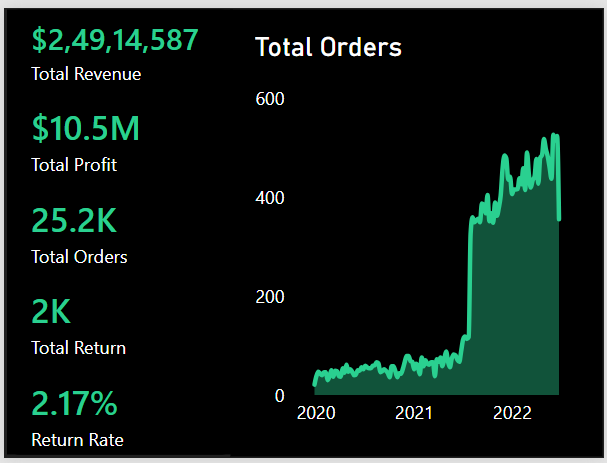

The dashboard page shown, as its layout file describes it:
{"tool":"powerbi","page":{"name":"tooltip","canvas":[400,300],"ordinal":4},"visuals":[{"type":"cardVisual","fields":{"Data":["Measure Table.Total Revenue","Measure Table.Total Profit","Measure Table.Total Orders","Measure Table.Total Return","Measure Table.Return Rate"]},"box":[1.9,0.9,151.5,298.1],"z":0},{"type":"areaChart","title":"Total Orders ","fields":{"Category":["AdventureWorks Calendar Lookup1.Start of Week"],"Y":["Measure Table.Total Orders"]},"box":[150.8,0.8,248.3,298.3],"z":1000}]}

Visuals, with their boxes in screenshot pixels (x1, y1, x2, y2), scaled from the page's 400x300 canvas onto the 607x463 screenshot:
cardVisual - Measure Table.Total Revenue x Measure Table.Total Profit: (3,1,233,461)
"Total Orders " areaChart: (229,1,606,462)
